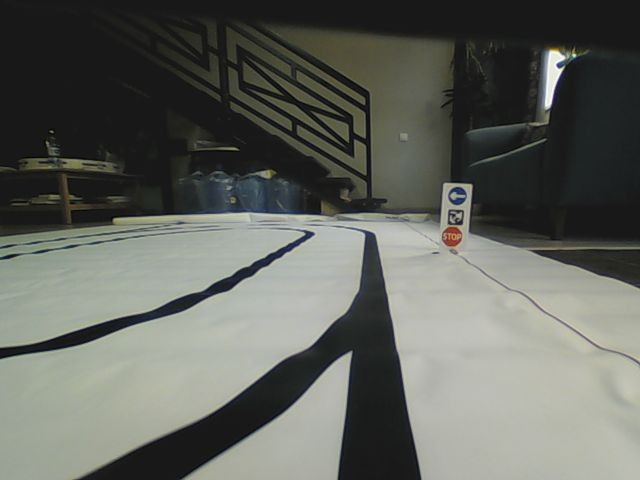Stop: (441, 227, 462, 246)
